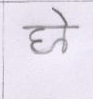o_matra: (57, 8, 70, 53)
